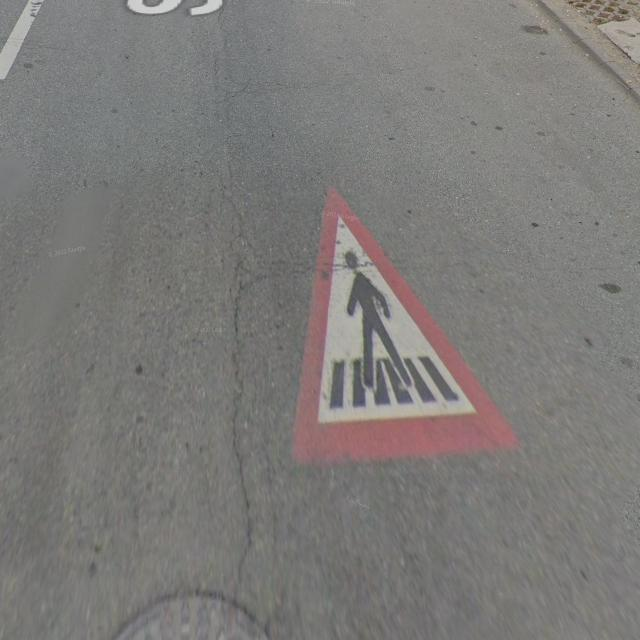warn_crosswalk: (292, 181, 521, 462)
